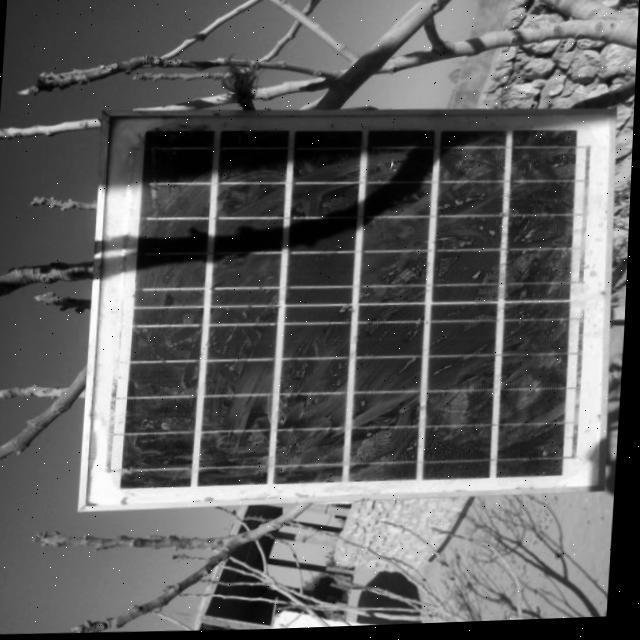Anomaly Solar Panel: (84, 105, 626, 510)
Surface Contaminant: (125, 127, 585, 488)
